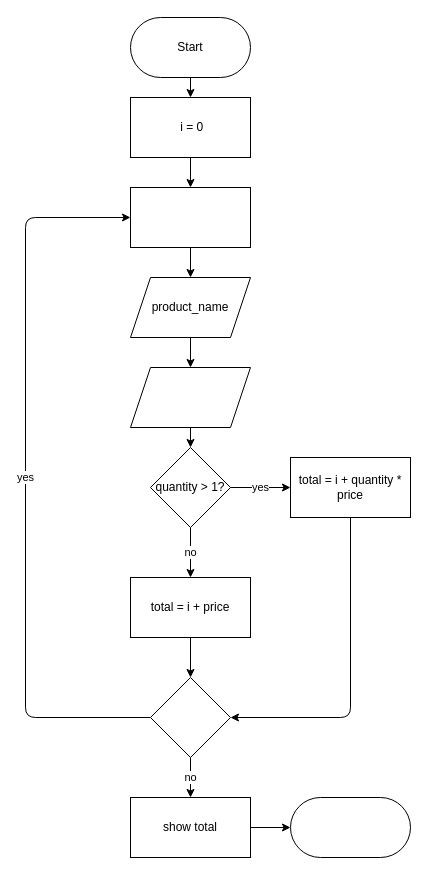
Some shapes in this 428 by 875 pixel diagram are drawn without their labels. Each missing label, with the centre of its shape:
add more item?: (190,717)
End: (350,827)
quantity: (190,397)
show list of product: (190,217)
